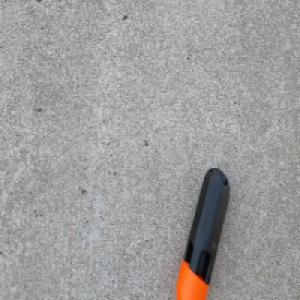PlasticPart: (175, 166, 231, 300)
